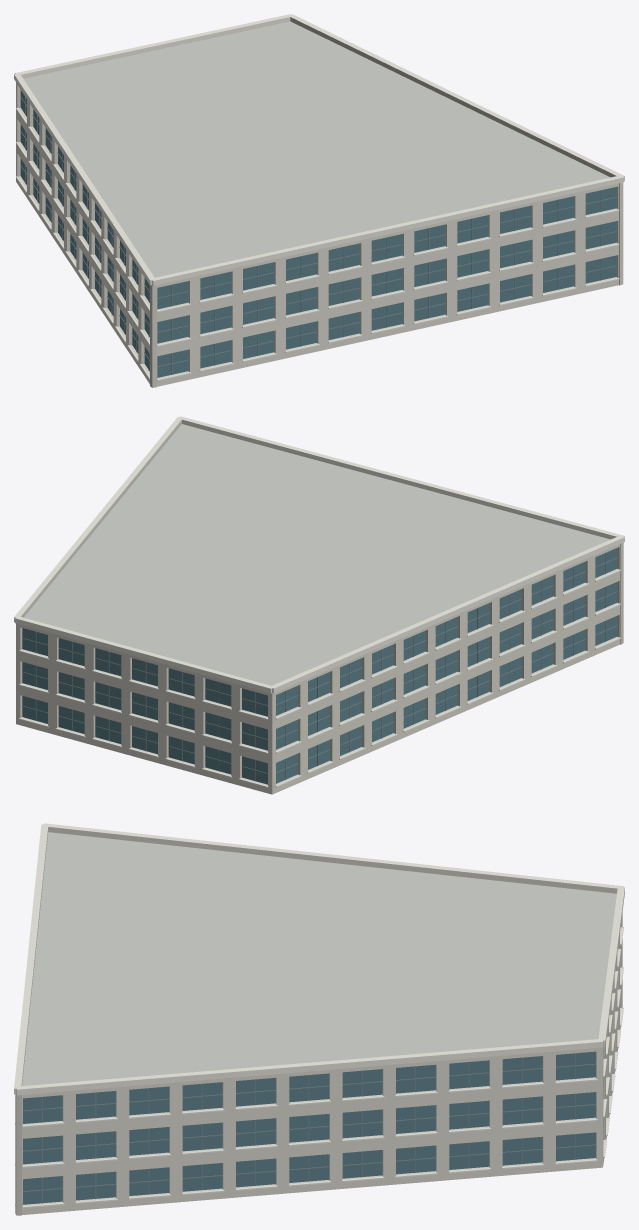
The picture shows the model from 3 angles, top to bottom: view 1: azimuth 30°, elevation 25°; view 2: azimuth 150°, elevation 25°; view 3: azimuth 270°, elevation 25°; orthographic projection. The views are drawn at different scales.
Parts seen in each view (by area): view 1: roof, wall, glass, trim, metal; view 2: roof, wall, glass, trim, metal; view 3: roof, wall, glass, trim, metal.
Part boxes in pixels (<box>): roof: <box>23,21,610,277</box>; wall: <box>16,82,623,387</box>; glass: <box>20,90,616,377</box>; trim: <box>14,14,624,380</box>; metal: <box>20,96,616,374</box>; roof: <box>24,424,610,685</box>; wall: <box>16,542,623,794</box>; glass: <box>22,548,617,784</box>; trim: <box>14,416,624,787</box>; metal: <box>22,553,617,781</box>; roof: <box>22,832,616,1085</box>; wall: <box>15,913,622,1215</box>; glass: <box>23,1051,595,1204</box>; trim: <box>14,823,624,1208</box>; metal: <box>23,1053,595,1203</box>.
Bounding box in the file's own units: 43.85 × 9.74 × 42.5.
